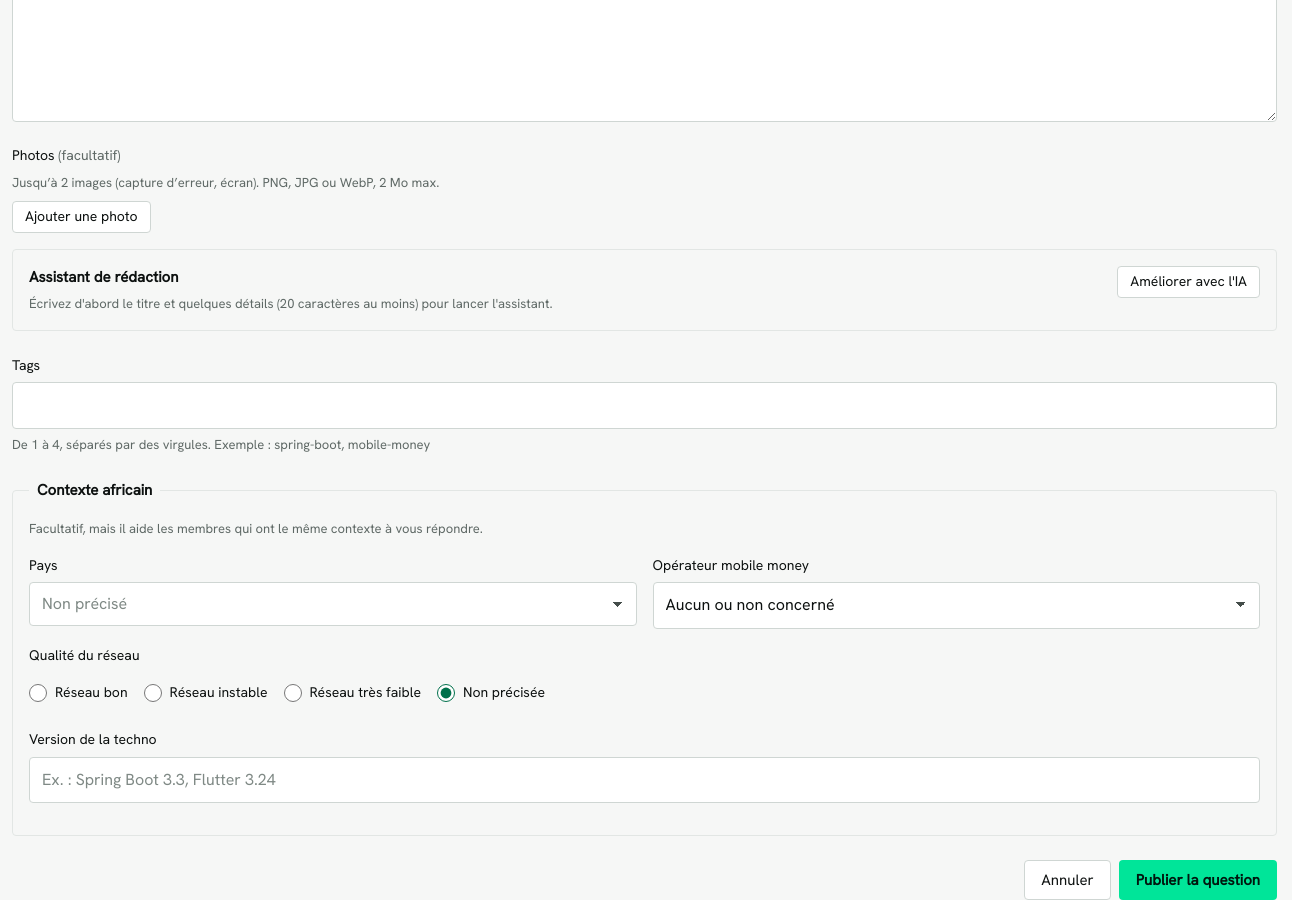
Test: AskForm › n'envoie rien tant que le formulaire est invalide
(page scrolled)
Click the button "Publier la question". click: (1198, 880)
box: x1=1119 y1=860 x2=1277 y2=899
(page scrolled)
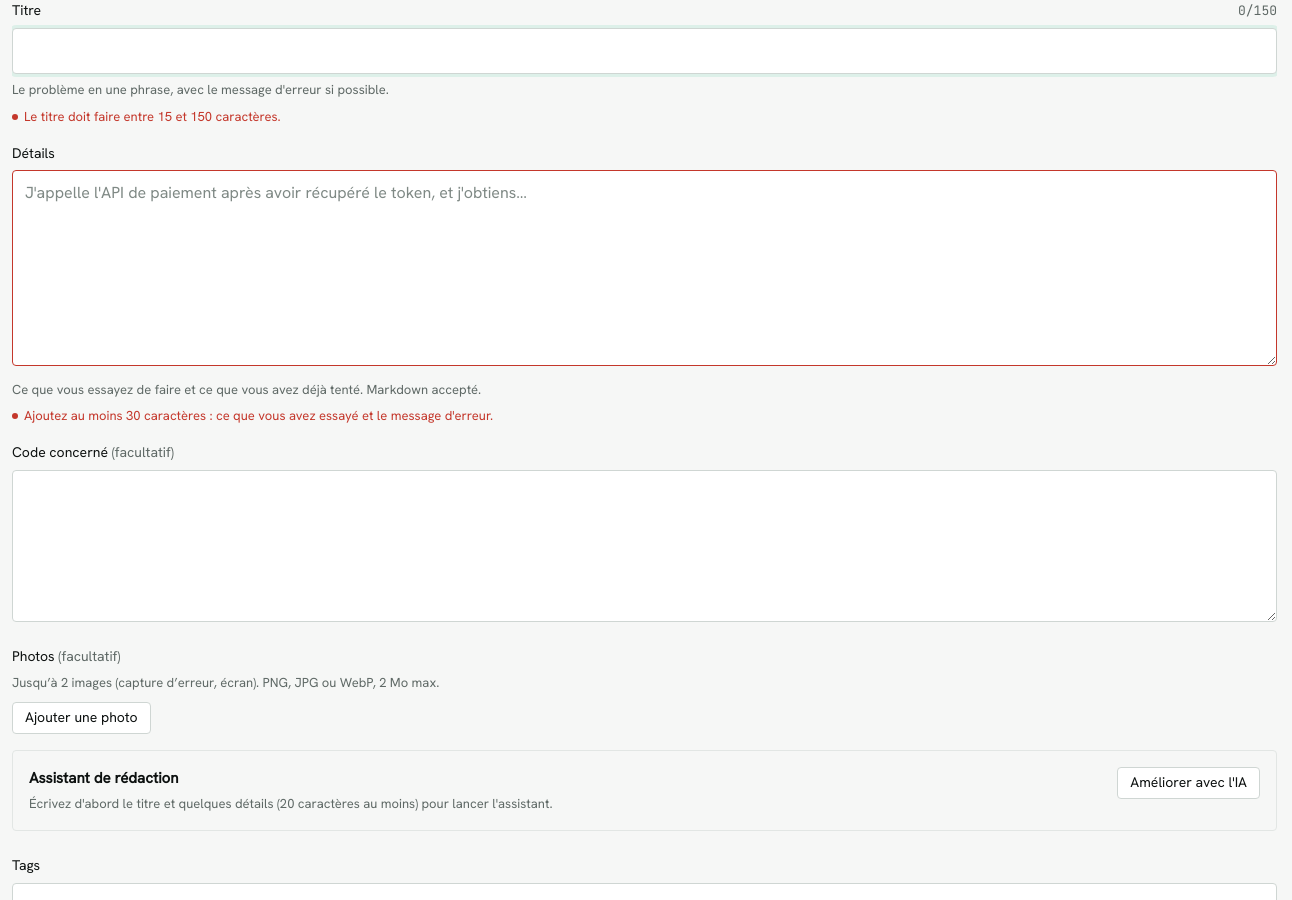
expect the text "Le titre doit faire entre 15 et 150 caractères." is shown: met, box x1=24 y1=108 x2=281 y2=125
